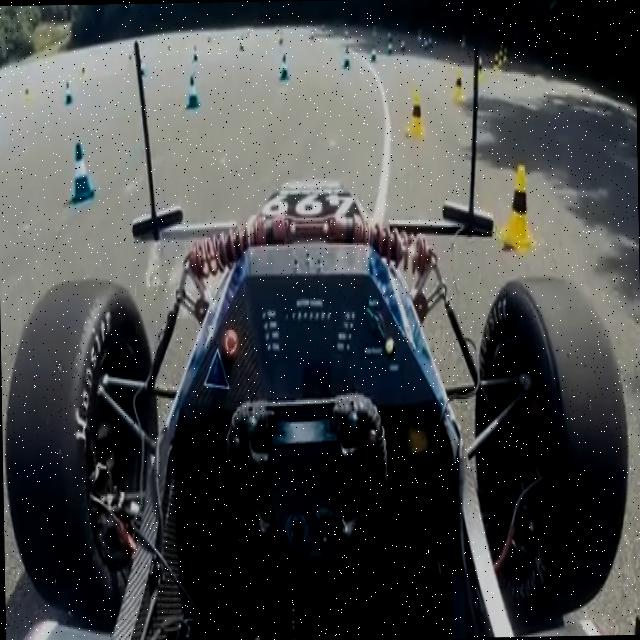blue_cone: (61, 137, 110, 203), (178, 70, 203, 117), (274, 42, 294, 91), (338, 38, 354, 78), (370, 42, 386, 68)
yellow_cone: (502, 156, 539, 250), (404, 88, 428, 140), (450, 77, 470, 113)
